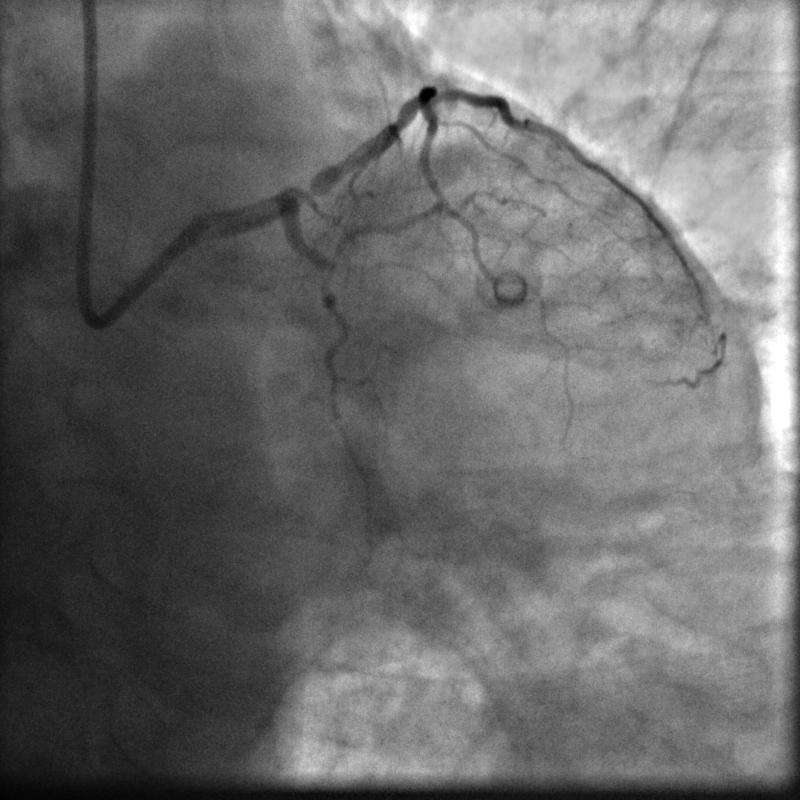Stenosis: (276, 175, 326, 205)
